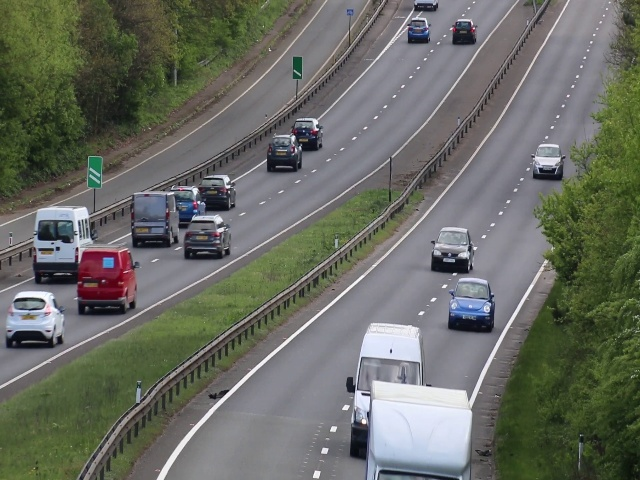car: (349, 354, 417, 447), (33, 205, 95, 281), (75, 246, 137, 314), (6, 289, 66, 350), (129, 190, 180, 245), (442, 278, 496, 329), (182, 214, 230, 260), (432, 225, 475, 274), (202, 170, 236, 210), (266, 133, 302, 170), (530, 141, 564, 180), (175, 183, 206, 223), (451, 17, 477, 47), (408, 16, 430, 44), (304, 117, 323, 149)
